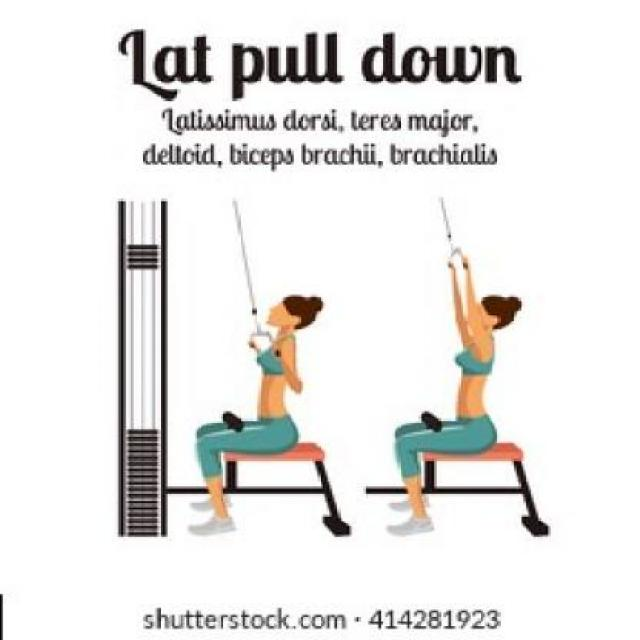Lat Pull Down: (86, 166, 363, 562)
